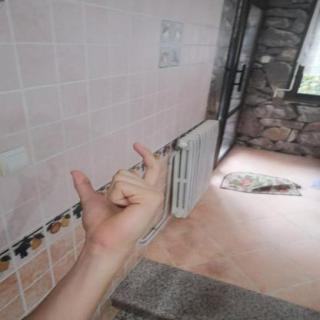NOON: (58, 133, 174, 259)
